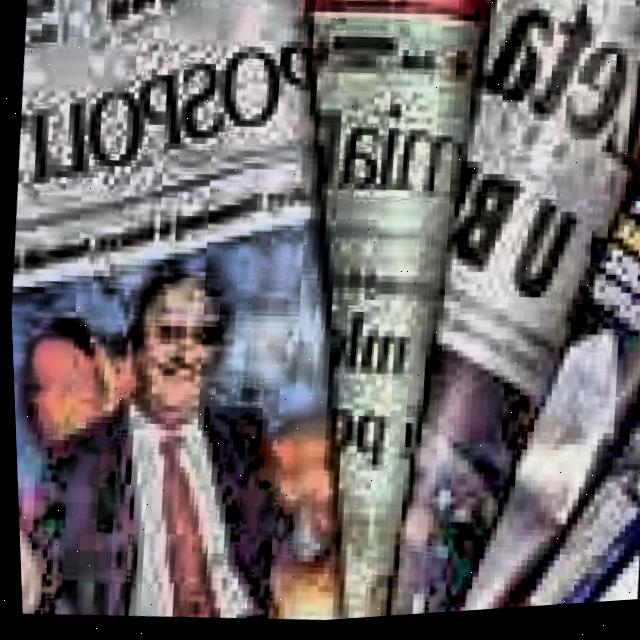paper: (0, 0, 640, 640), (27, 0, 640, 639), (47, 0, 640, 638), (0, 0, 526, 640), (0, 0, 420, 640)
